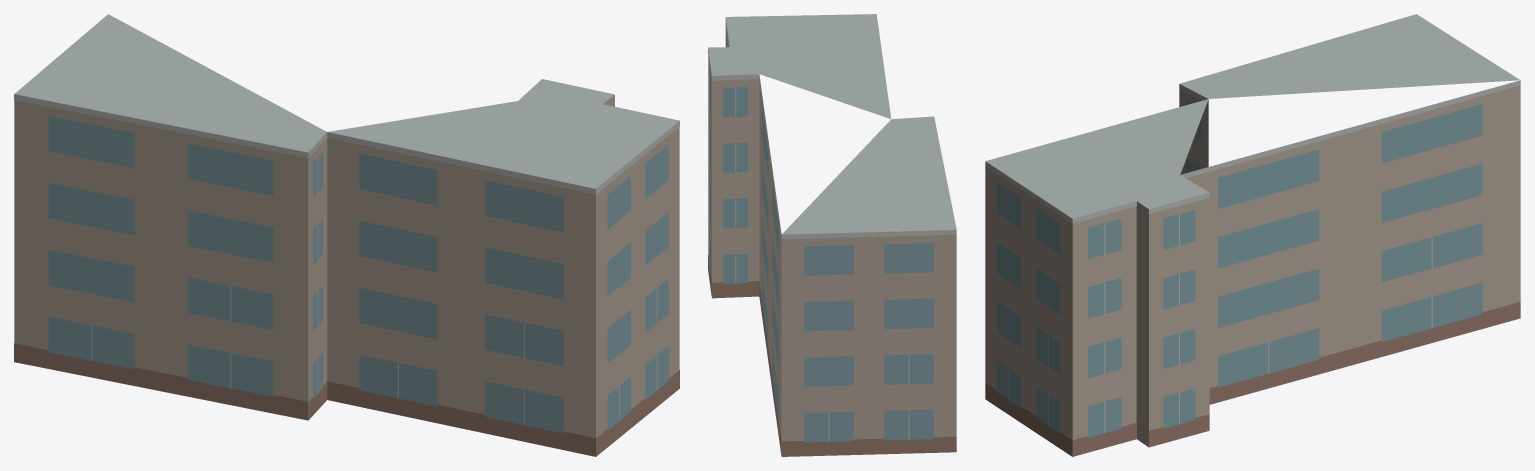
Rendered from survey-upis-33040926.glb.
3 renders of one model, left to right at view 1: azimuth 30°, elevation 25°; view 2: azimuth 150°, elevation 25°; view 3: azimuth 270°, elevation 25°, orthographic. The views are drawn at different scales.
Visible parts, largest first — view 1: survey-upis-33040926.tmp; view 2: survey-upis-33040926.tmp; view 3: survey-upis-33040926.tmp.
Boxes of the visible parts, <box> form: survey-upis-33040926.tmp: <box>14,14,679,456</box>; survey-upis-33040926.tmp: <box>708,14,956,456</box>; survey-upis-33040926.tmp: <box>985,14,1520,456</box>.
Bounding box in the file's own units: 21.03 × 11.4 × 23.23.
